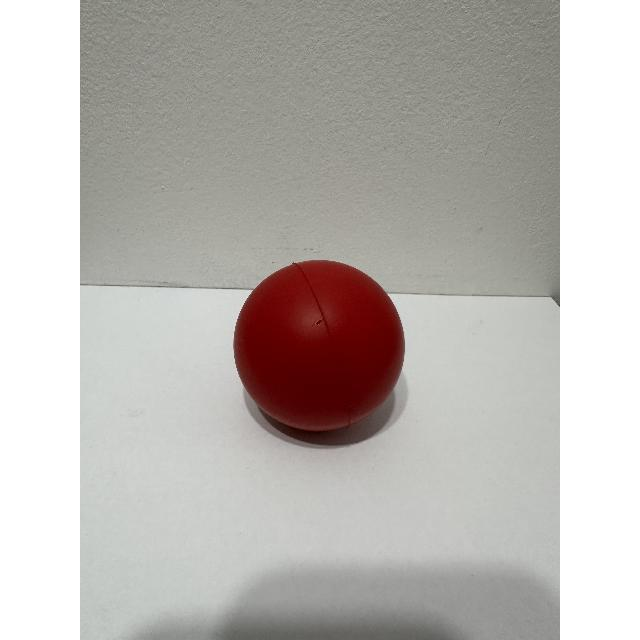red_ball: (228, 244, 436, 451)
